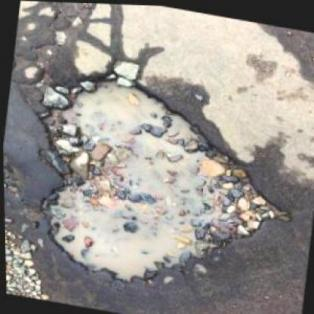Hueco: (12, 57, 307, 309)
